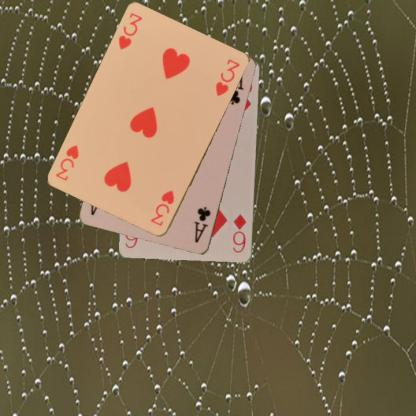3h: (115, 10, 144, 52), (148, 188, 176, 228)
6d: (230, 211, 248, 254)
Ac: (191, 204, 212, 244)
